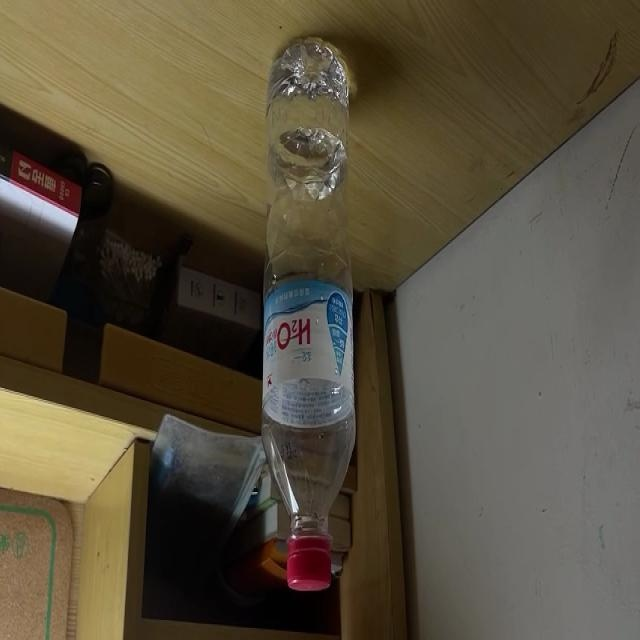Water: (263, 35, 356, 591)
